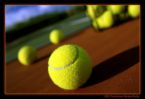tennis ball: (47, 45, 92, 90), (17, 46, 37, 66), (48, 29, 65, 44)
